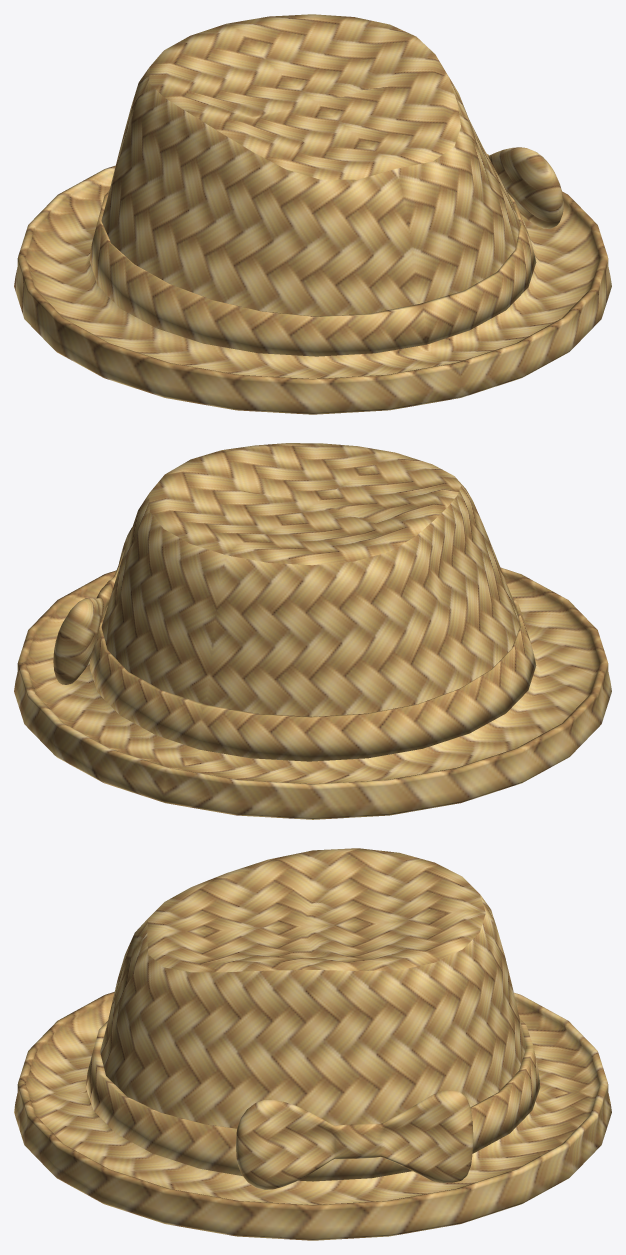
Rendered from hat.fbx.
3 views of the same model, one above another, from view 1: azimuth 30°, elevation 25°; view 2: azimuth 150°, elevation 25°; view 3: azimuth 270°, elevation 25° (orthographic).
Visible parts, largest first — view 1: Hat (exterior), Band, Ribbon; view 2: Hat (exterior), Band, Ribbon; view 3: Hat (exterior), Ribbon, Band.
Boxes of the visible parts, x1,y1,x2,y2 form: Hat (exterior): (14,14,611,414); Band: (89,191,536,356); Ribbon: (487,147,563,228); Hat (exterior): (14,443,611,819); Band: (89,597,536,761); Ribbon: (53,527,132,684); Hat (exterior): (14,848,611,1240); Ribbon: (236,1090,473,1189); Band: (85,1018,540,1181).
Size of the model in its own units: 115 by 44.33 by 115.
1 material, 1 textured.
